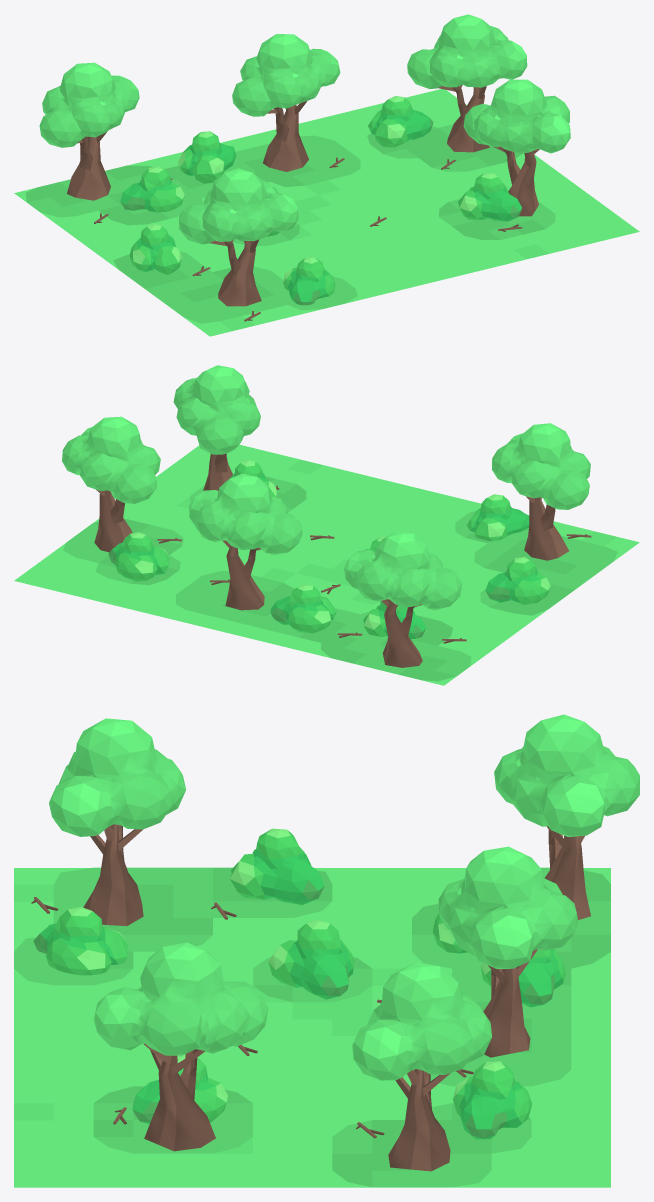
Rendered from grass.gltf.
The picture shows the model from 3 angles, top to bottom: view 1: azimuth 30°, elevation 25°; view 2: azimuth 150°, elevation 25°; view 3: azimuth 270°, elevation 25°; orthographic projection. The views are drawn at different scales.
Parts seen in each view (by area): view 1: forest_level_1, grass_level_1, shadow_grass_level_1, cysts_level_1, vetka; view 2: forest_level_1, grass_level_1, shadow_grass_level_1, cysts_level_1, vetka; view 3: grass_level_1, forest_level_1, shadow_grass_level_1, cysts_level_1, vetka.
Part boxes in pixels (x1,y1,x2,y2): forest_level_1: [39, 14, 570, 306]; grass_level_1: [14, 89, 639, 336]; shadow_grass_level_1: [25, 124, 555, 323]; cysts_level_1: [120, 96, 521, 305]; vetka: [94, 157, 522, 321]; forest_level_1: [62, 365, 590, 667]; grass_level_1: [14, 444, 639, 685]; shadow_grass_level_1: [63, 473, 617, 681]; cysts_level_1: [108, 459, 550, 639]; vetka: [157, 485, 591, 643]; grass_level_1: [14, 868, 610, 1187]; forest_level_1: [49, 714, 639, 1171]; shadow_grass_level_1: [14, 867, 610, 1187]; cysts_level_1: [33, 828, 565, 1139]; vetka: [31, 897, 473, 1138].
Size of the model in its own units: 18.11 by 5.36 by 14.74.
